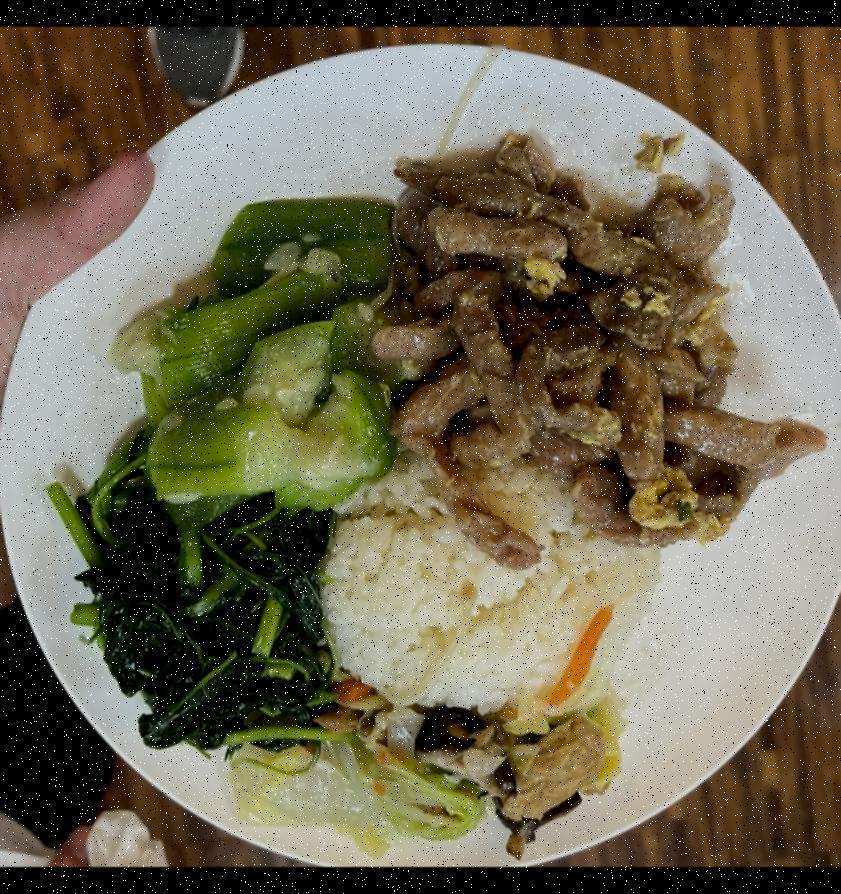plate: (0, 44, 841, 867)
pork with scrambled eggs: (398, 141, 832, 549)
side dish: (117, 195, 409, 506), (50, 490, 343, 752), (231, 711, 635, 848)
white rice: (325, 474, 660, 706)
